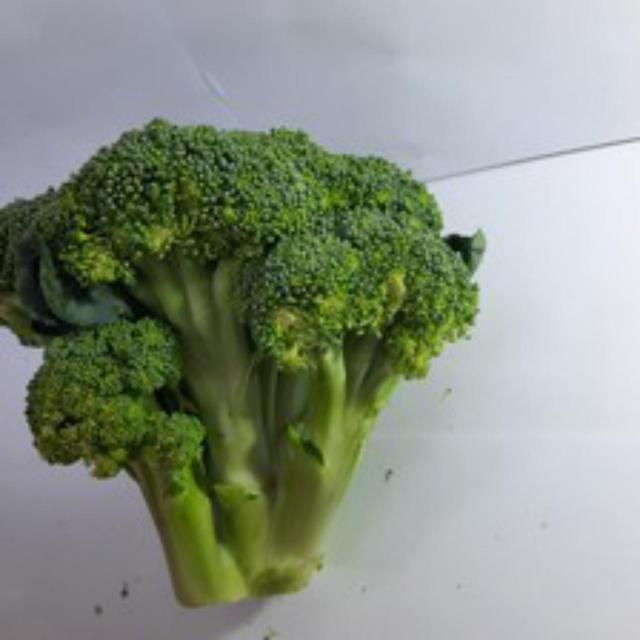broccoli: (0, 77, 486, 639)
